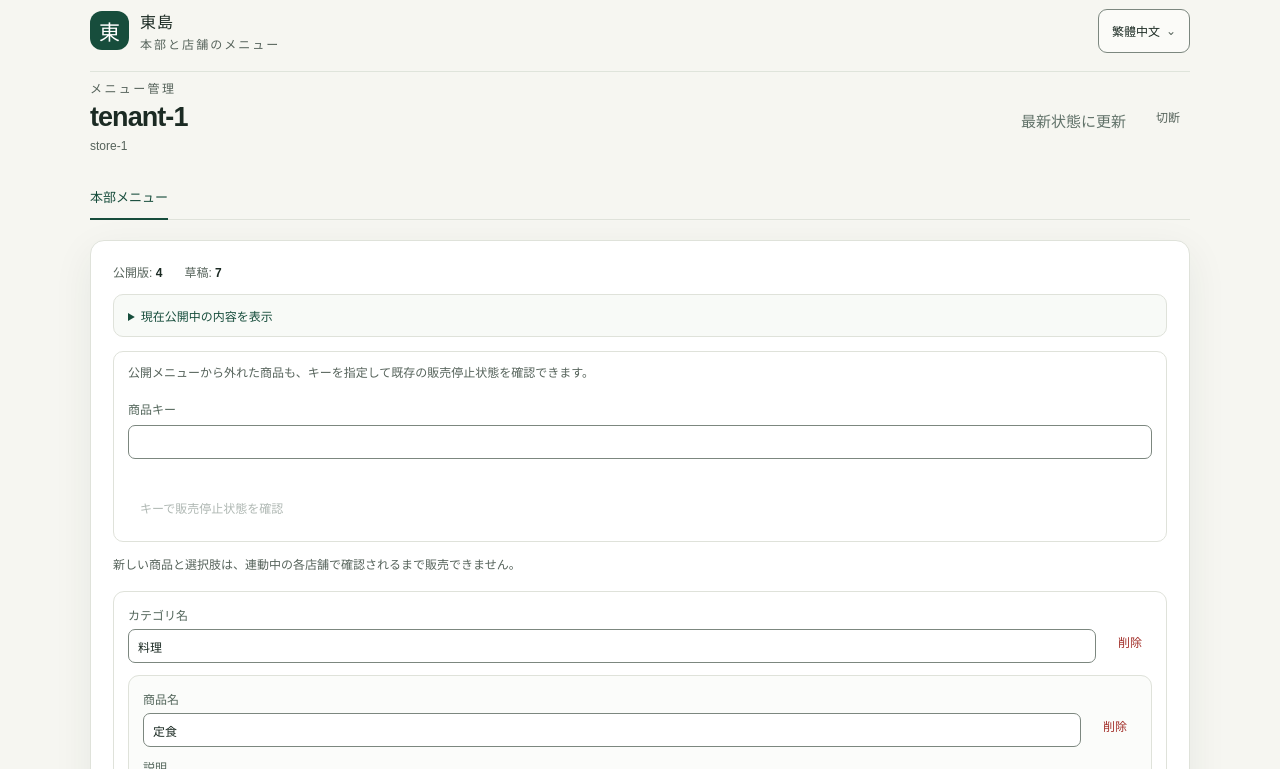
Test: catalog admin UI › uses request fencing when two published-product hold reads resolve in reverse order
expect the button "切断" is shown: met, box [1146,94,1190,138]
expect the button "最新状態に更新" is enabled: met, box [1015,108,1132,132]
Click the heading "現在公開中の内容を表示" at x=207, y=317, box [141,310,273,324]
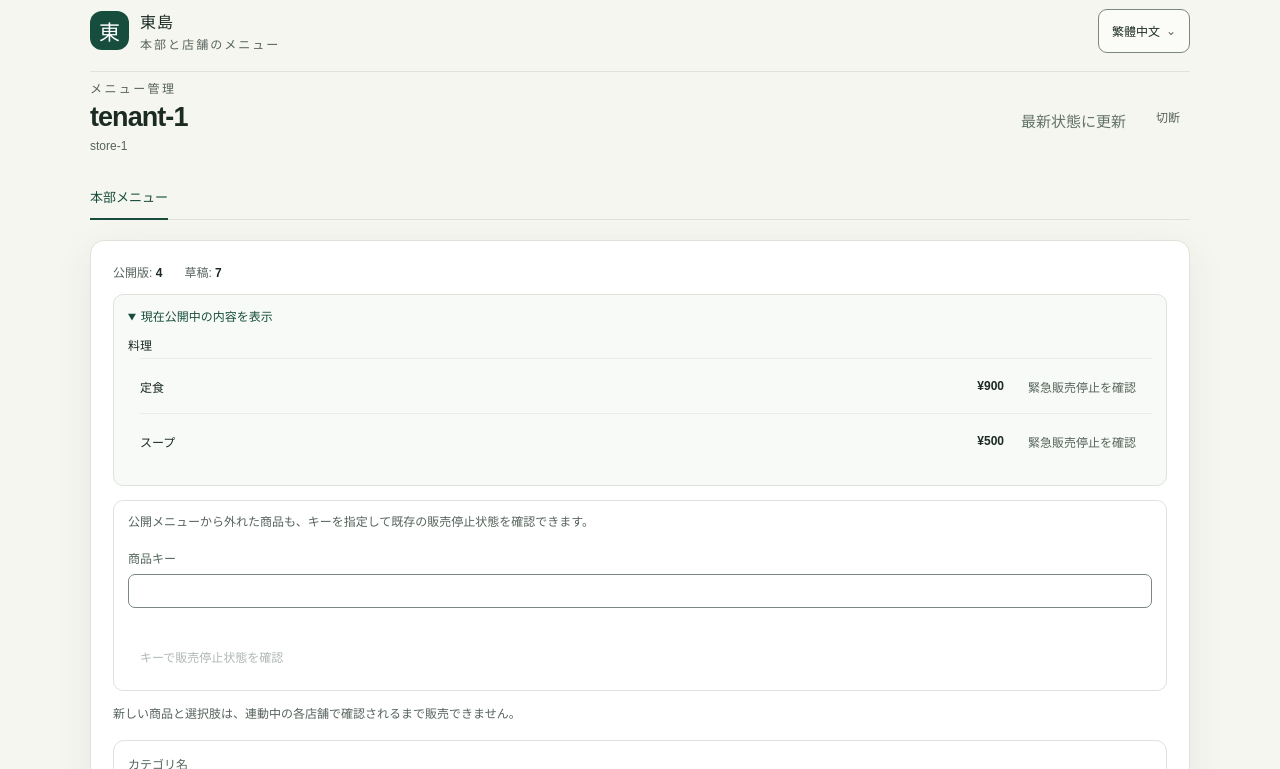
Click the button "緊急販売停止を確認" next to "¥900" at x=1082, y=386, box [1020,364,1144,408]
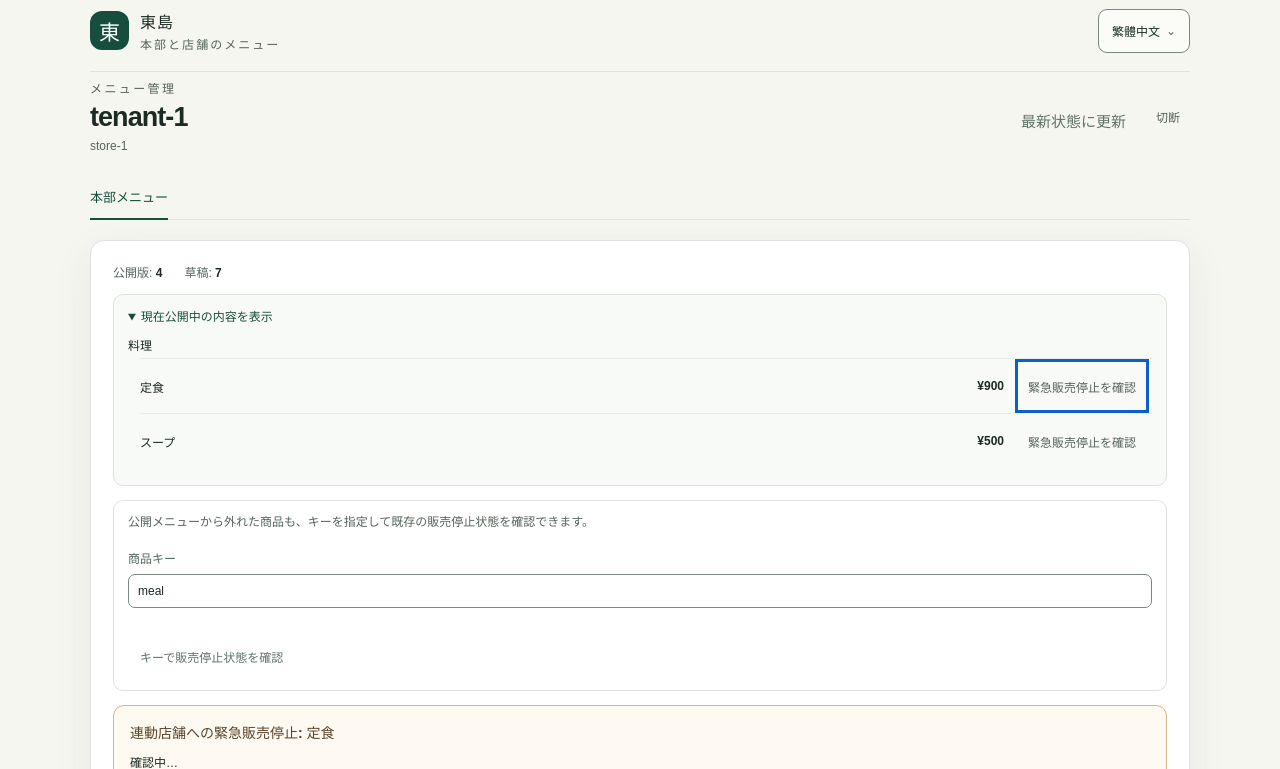
Click the button "緊急販売停止を確認" next to "¥500" at x=1082, y=441, box [1020,419,1144,463]
(page scrolled)
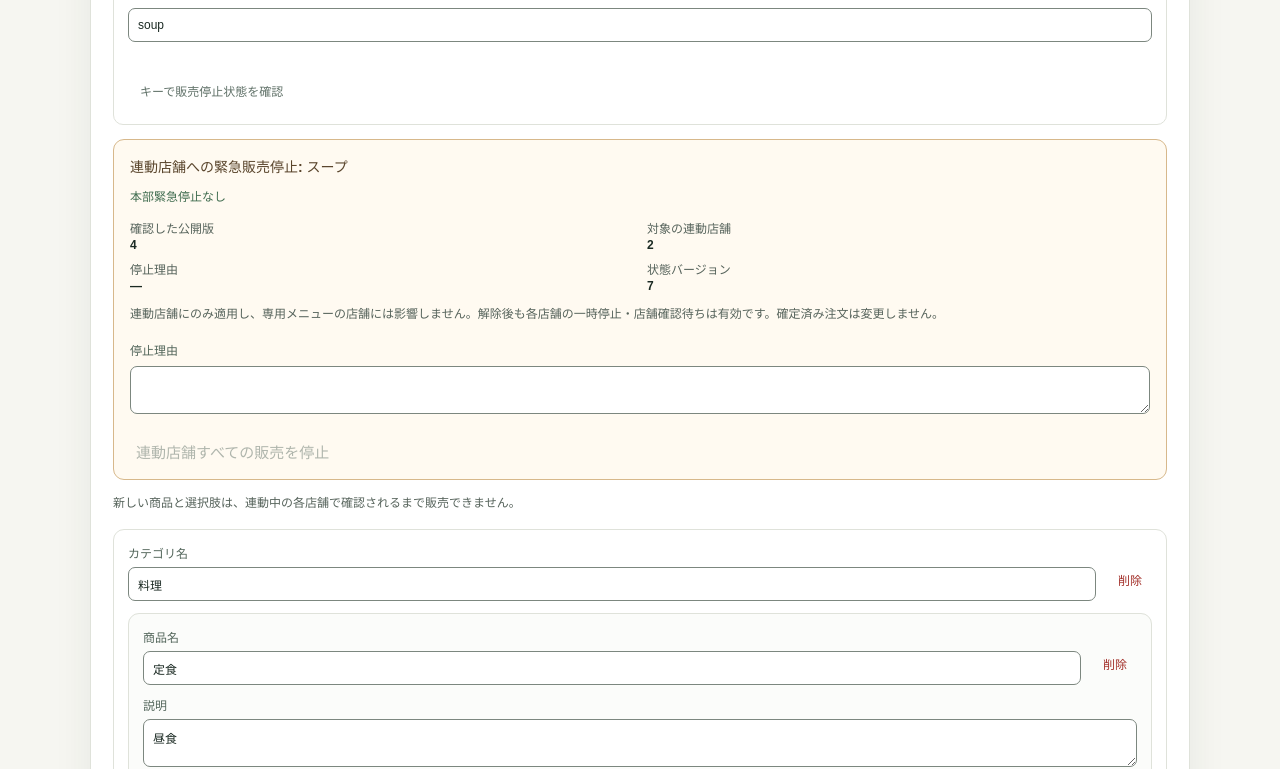
expect the heading "連動店舗への緊急販売停止: スープ" is shown: met, box [130,159,348,175]
expect the text "本部緊急停止なし" is shown: met, box [130,190,226,204]
expect the text "7" is shown: met, box [647,279,654,293]
Type "確認済み" into the text box labelled "停止理由" at x=640, y=390, box [130,366,1150,414]
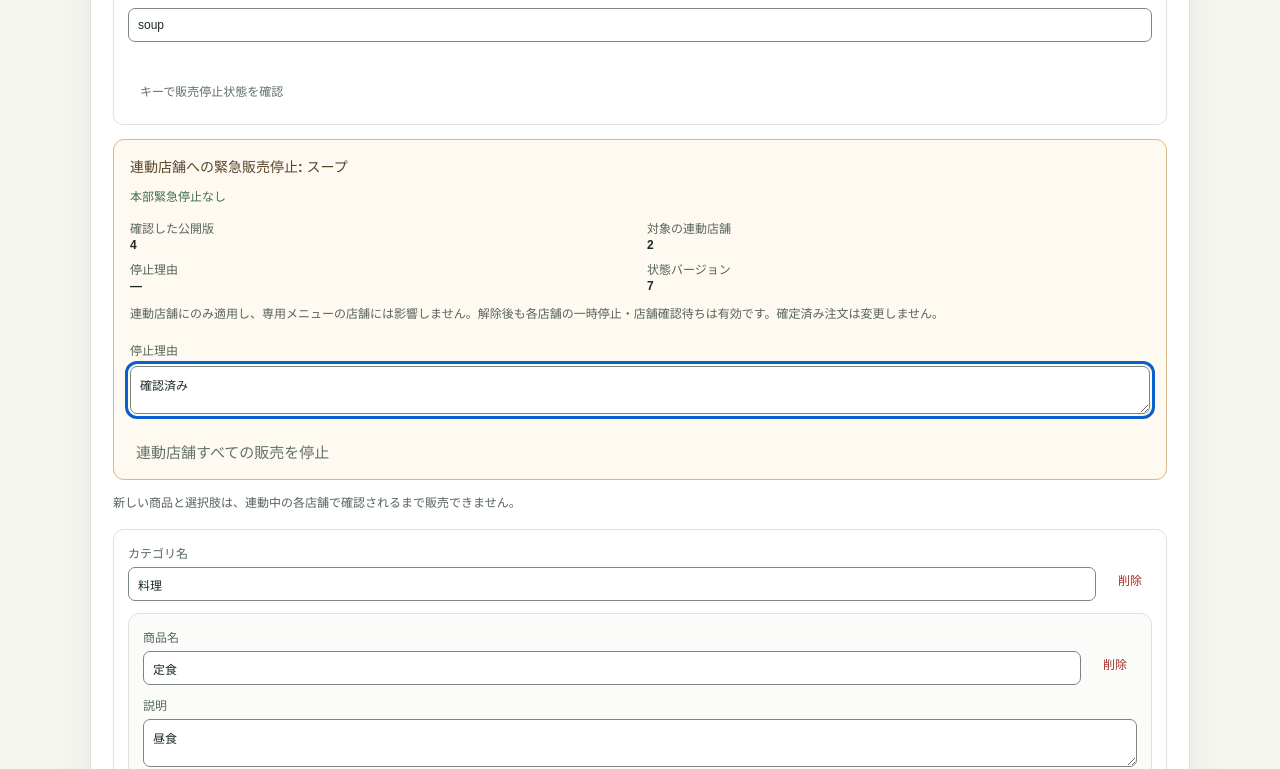
Click the button "連動店舗すべての販売を停止" at x=233, y=452, box [130,440,335,463]
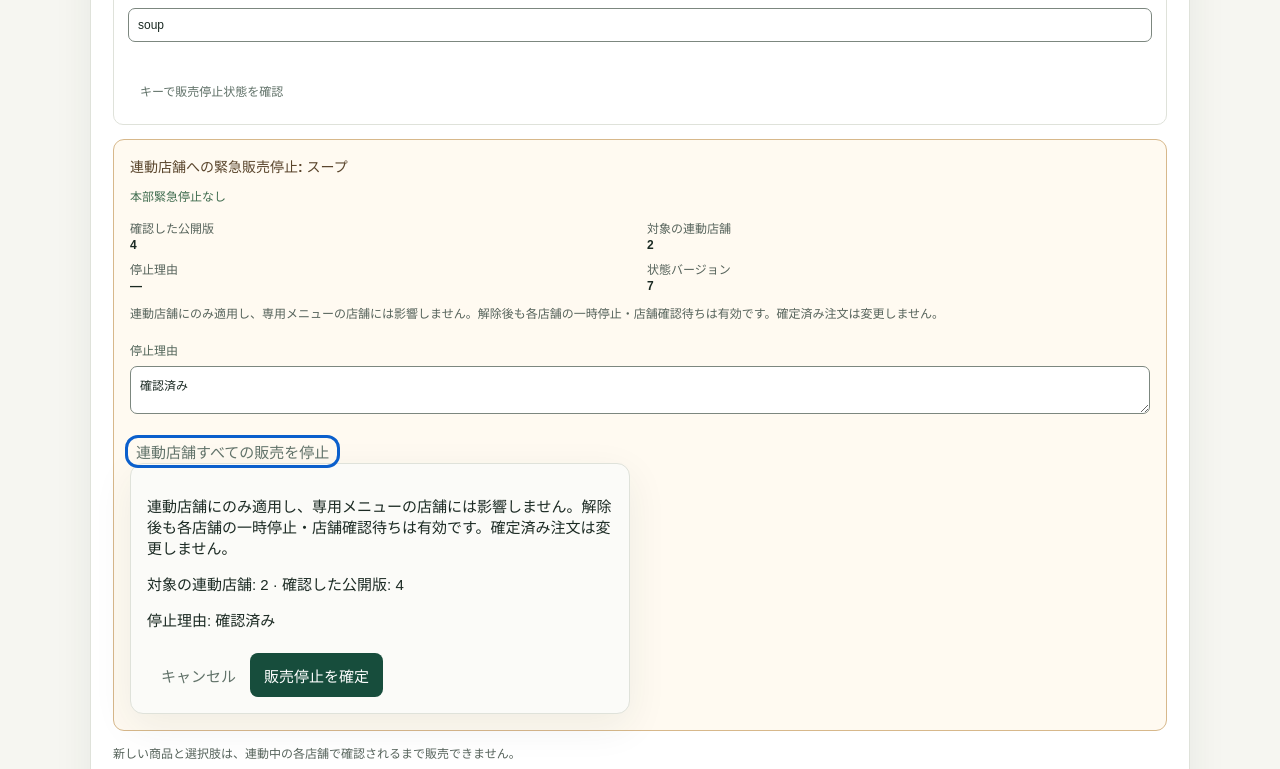
Click the button "販売停止を確定" at x=316, y=675, box [250,653,383,697]
(page scrolled)
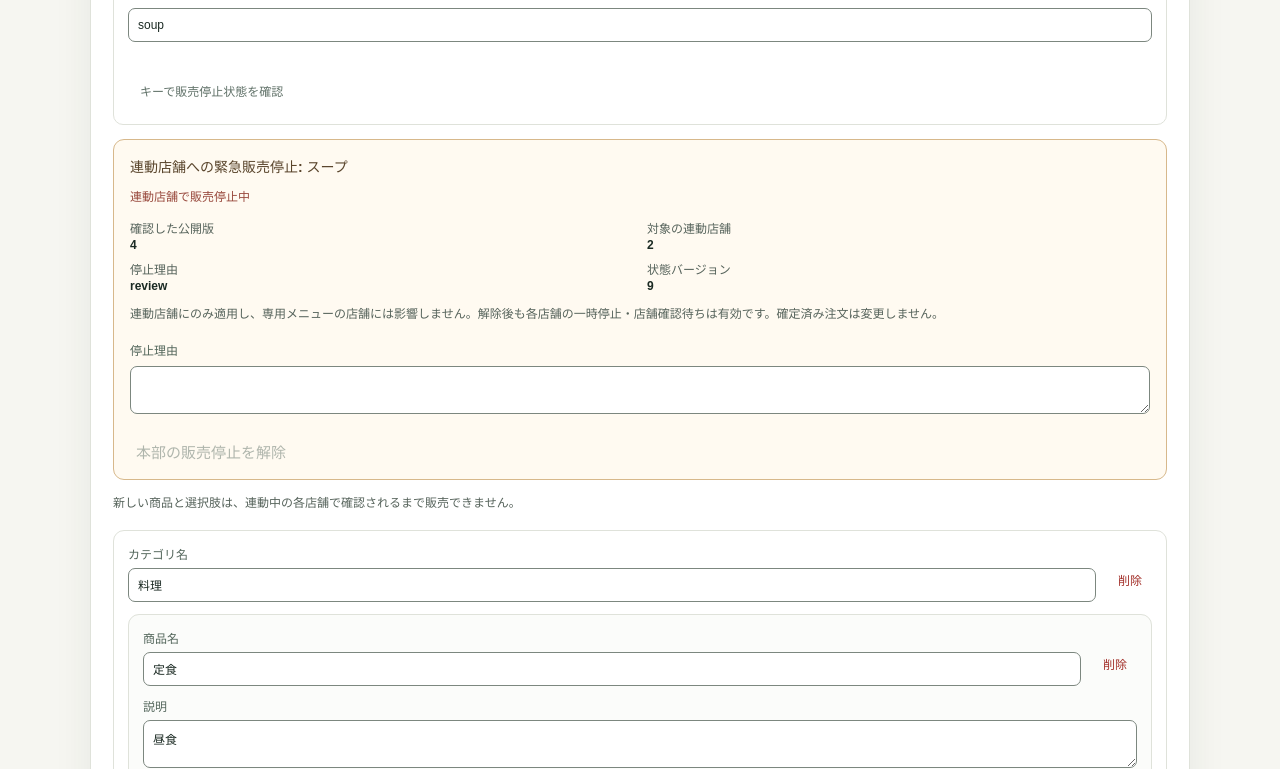
expect the text "連動店舗で販売停止中" is shown: met, box [130,190,250,204]
